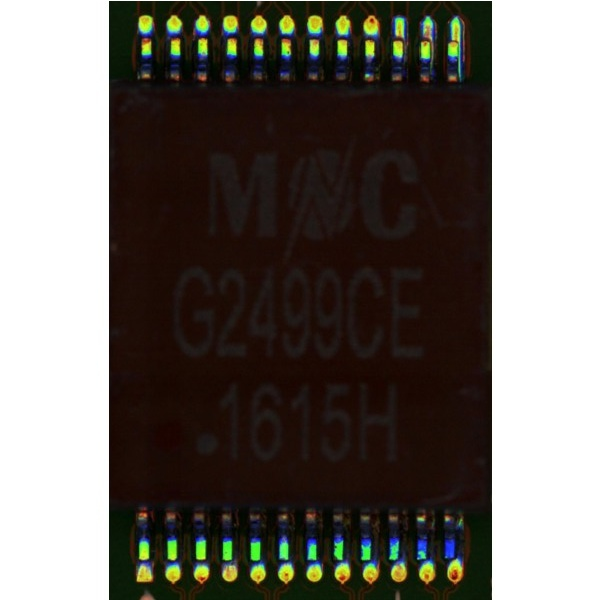Bad_podu: (396, 25, 402, 48), (452, 29, 458, 49)
Bad_qiaojiao: (458, 39, 462, 81), (423, 27, 430, 48), (431, 40, 435, 70)
